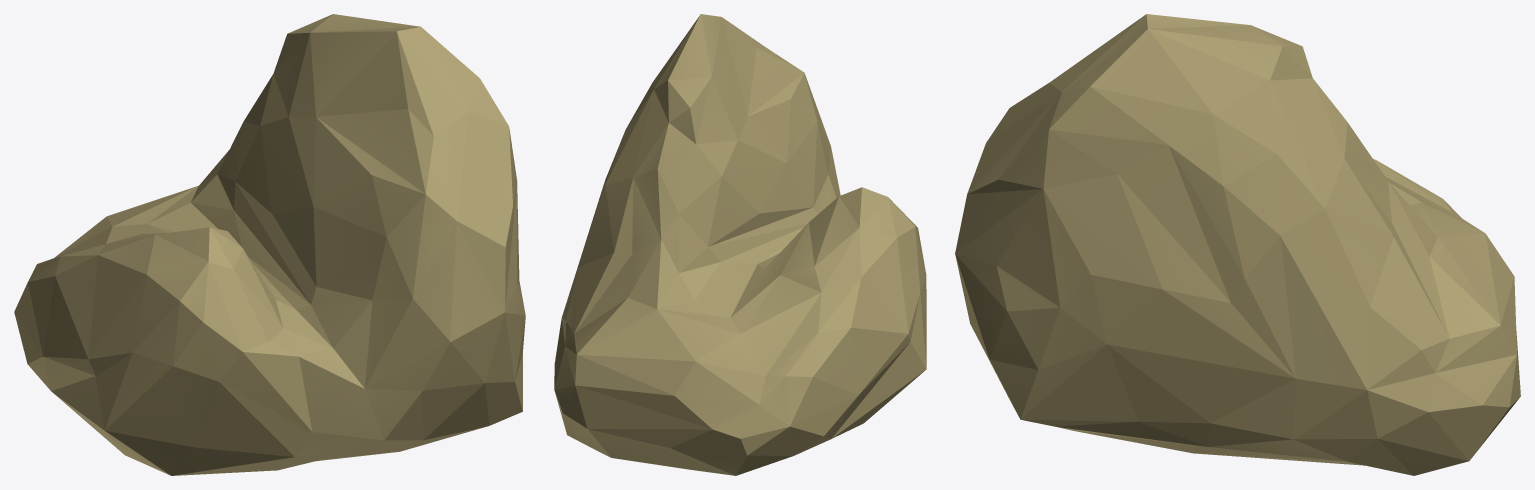
File: SM_rock_90.fbx
3 renders of one model, left to right at view 1: azimuth 30°, elevation 25°; view 2: azimuth 150°, elevation 25°; view 3: azimuth 270°, elevation 25°, orthographic. The views are drawn at different scales.
Visible parts, largest first — view 1: rock_90; view 2: rock_90; view 3: rock_90.
Part boxes in pixels (<box>): rock_90: <box>14,14,525,475</box>; rock_90: <box>554,14,926,475</box>; rock_90: <box>955,14,1520,475</box>.
Bounding box in the file's own units: 113 × 128 × 145.
